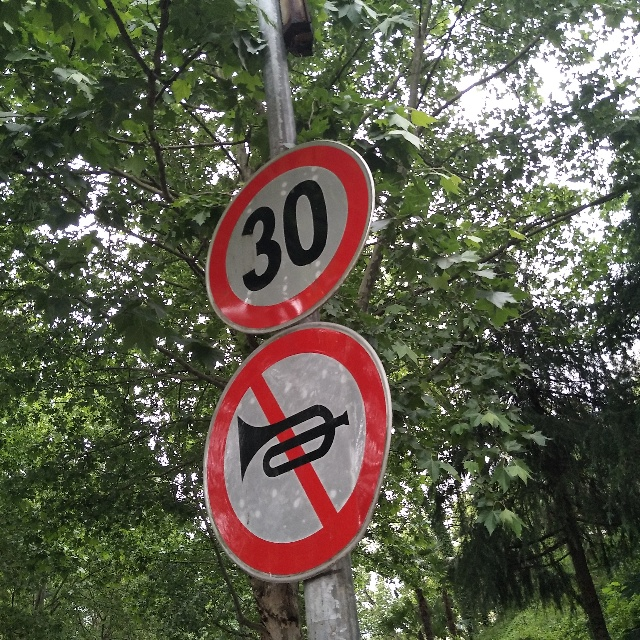nohonk: (219, 365, 364, 528)
